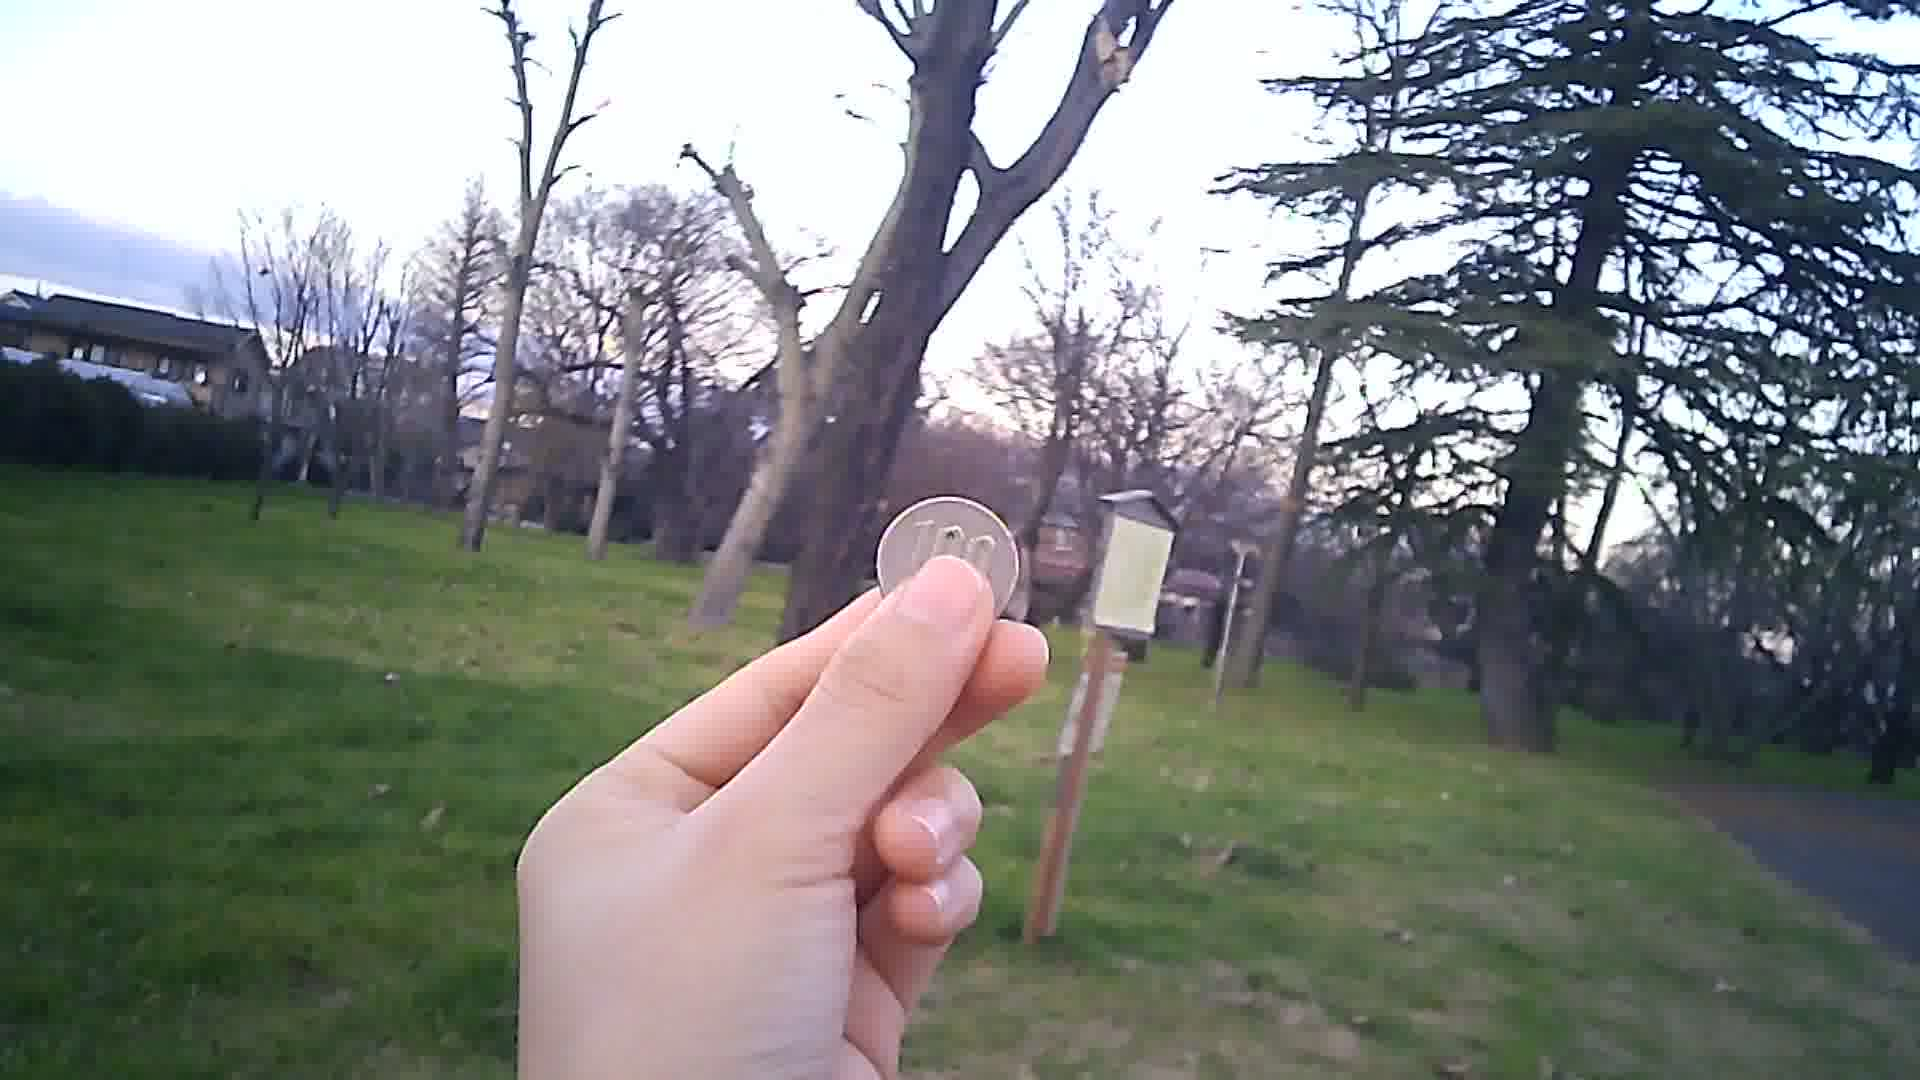100 Yen: (868, 489, 1033, 625)
